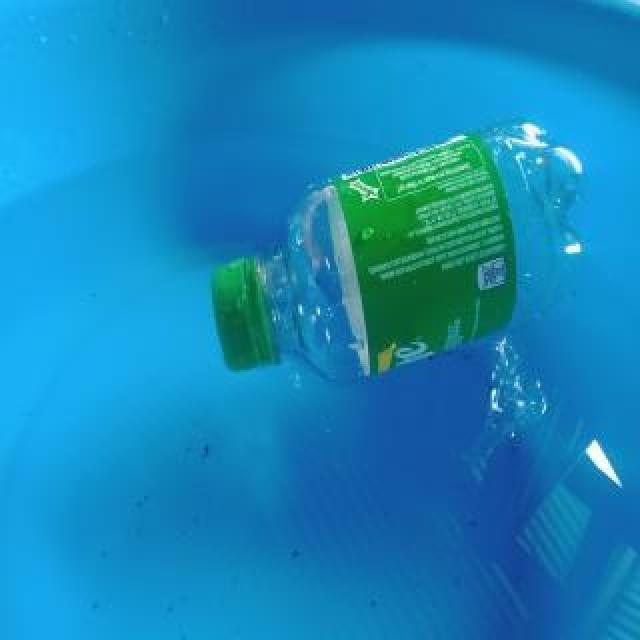bottle: (211, 115, 593, 389)
